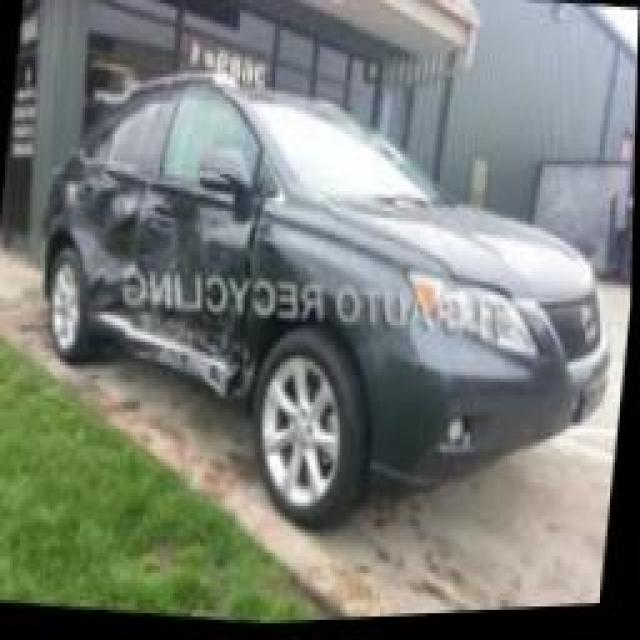Door: (132, 236, 247, 386), (72, 233, 129, 335)
